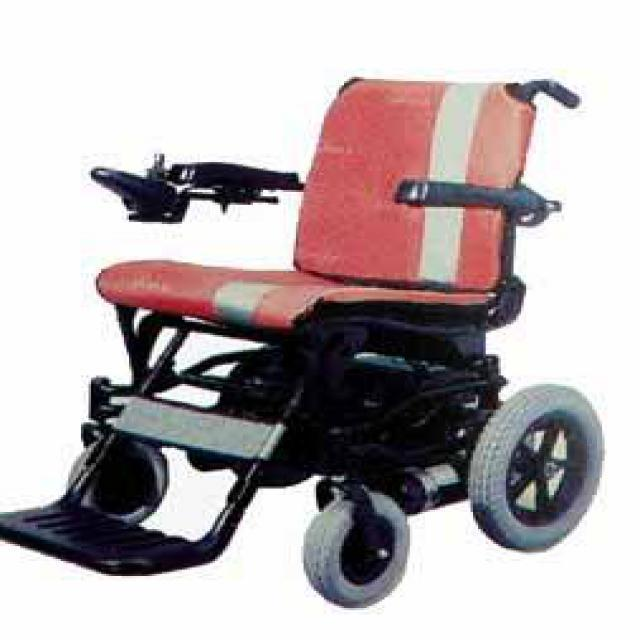wheelchairs: (0, 66, 608, 609)
